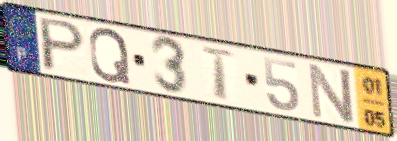3: (149, 33, 190, 100)
5: (261, 55, 301, 113)
N: (306, 60, 357, 126)
P: (37, 15, 88, 74)
Q: (87, 26, 133, 86)
T: (199, 44, 239, 103)
